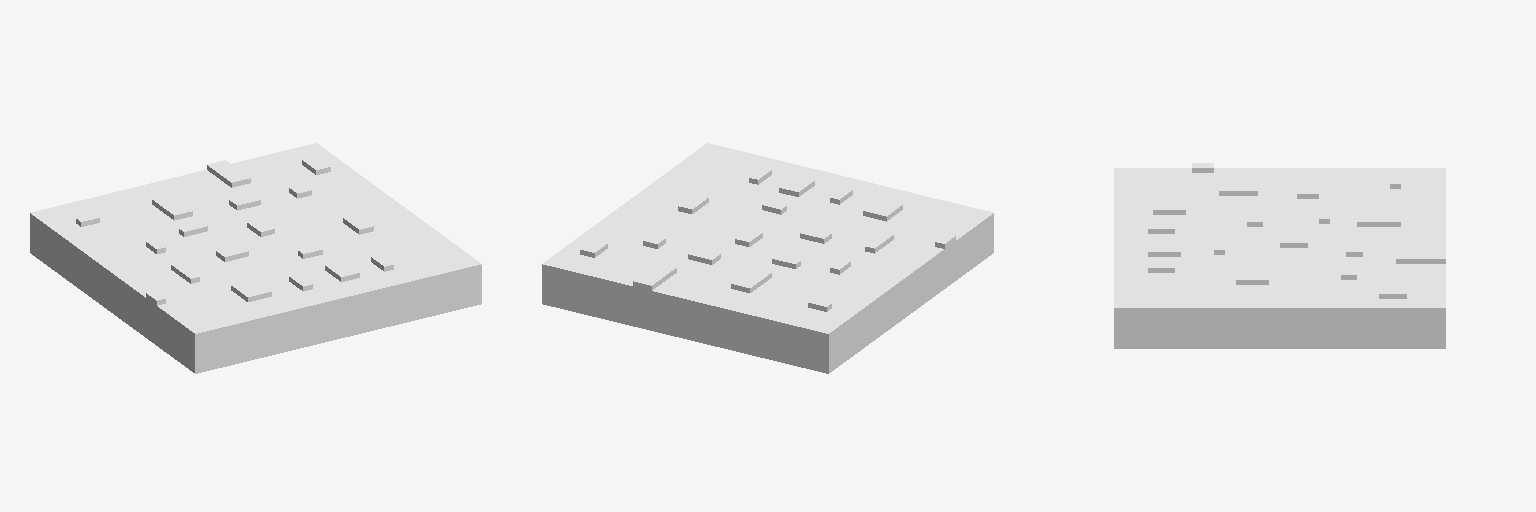
The model's file is floor01.obj.
The picture shows the model from 3 angles: view 1: azimuth 30°, elevation 25°; view 2: azimuth 150°, elevation 25°; view 3: azimuth 270°, elevation 25°; orthographic projection.
Visible parts, largest first — view 1: object 1; view 2: object 1; view 3: object 1.
Boxes of the visible parts, box(x1,y1,x2,y2) form: object 1: box(30, 143, 481, 373); object 1: box(542, 143, 993, 373); object 1: box(1114, 163, 1445, 348).
Size of the model in its own units: 6 by 0.9 by 6.